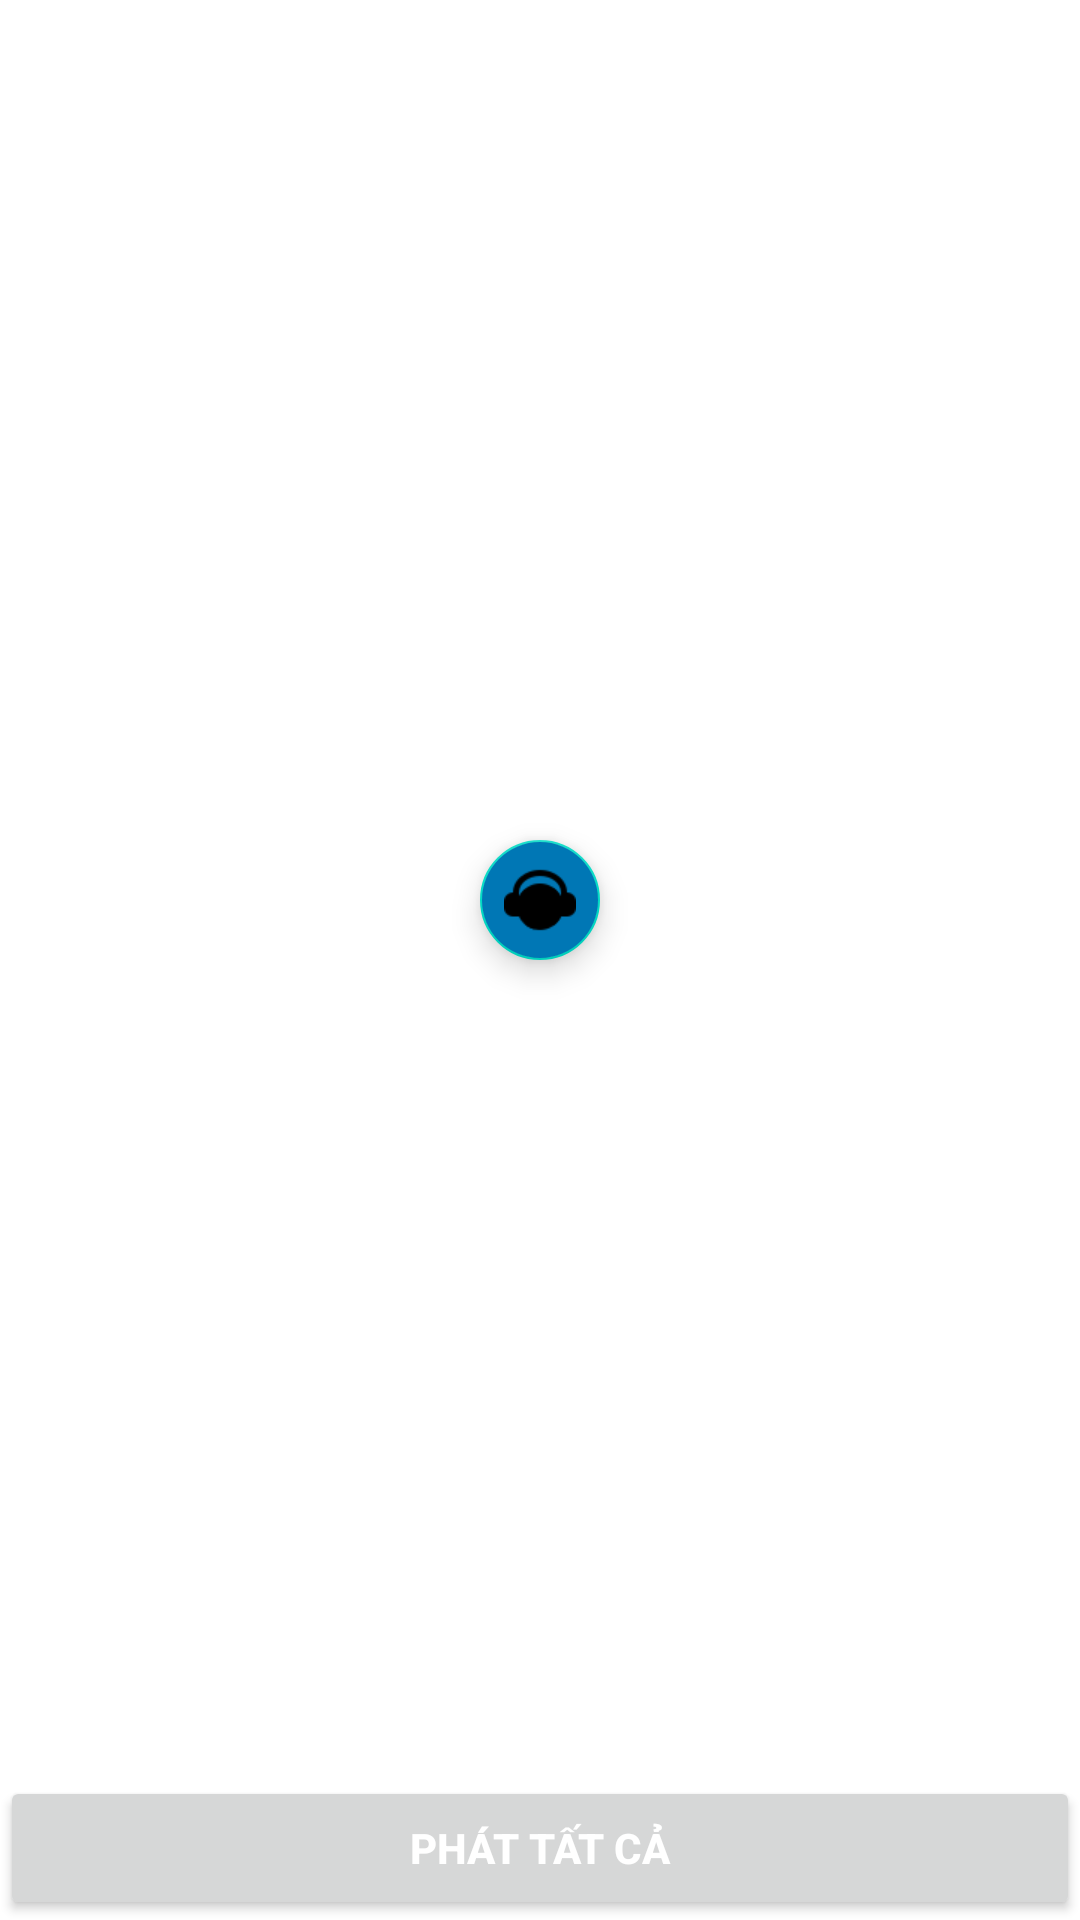

Where icons sit on this 1080px×1920px app screen, as (x1, y1, x2, y2):
music: (480, 840, 600, 965)
